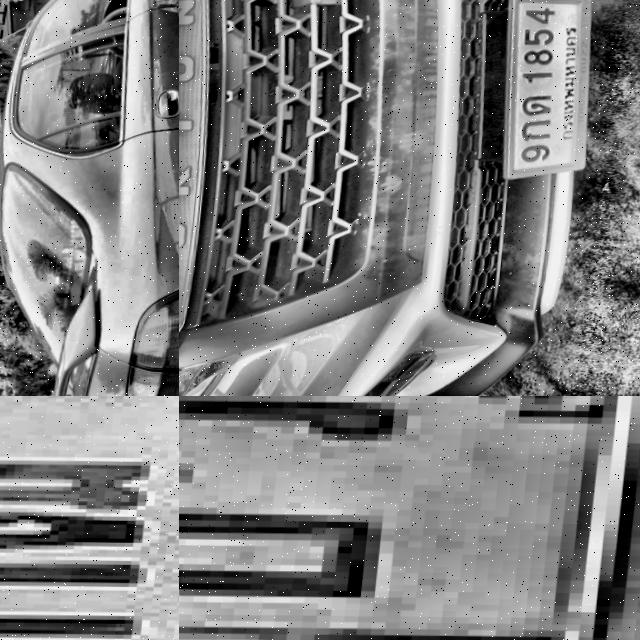license-plate: (179, 396, 640, 640), (0, 396, 179, 640), (489, 0, 610, 180)
